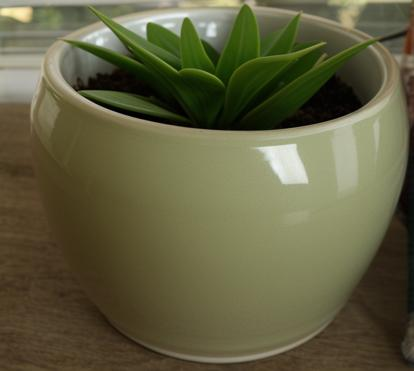pottedplant: (11, 4, 409, 365)
